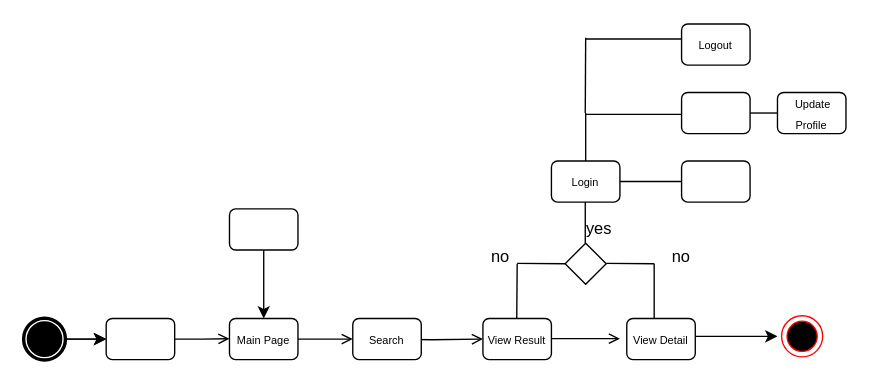
Image size: 870x384. Some labels were removed from this diagram. The centre of each missing label's shape, as x and y in pixels:
"add/remove favorites" belongs at (x=715, y=181).
"Personal Profile" belongs at (x=715, y=112).
"Register" belongs at (x=263, y=229).
"start page" belongs at (x=140, y=338).
